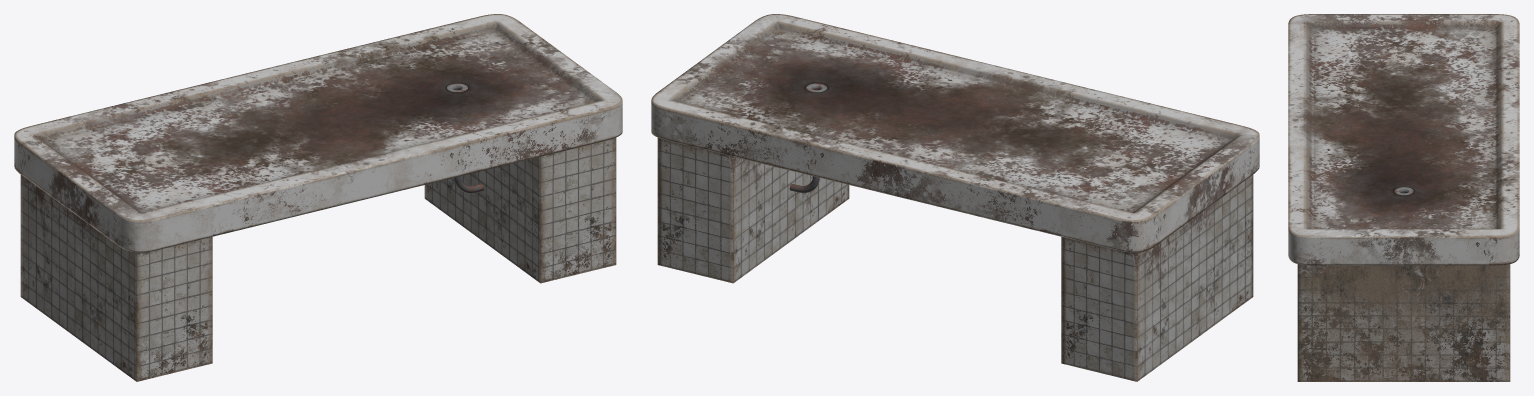
The model's file is SM_AutopsyTable01_LOD0.glb.
The picture shows the model from 3 angles, left to right: view 1: azimuth 30°, elevation 25°; view 2: azimuth 150°, elevation 25°; view 3: azimuth 270°, elevation 25°; orthographic projection. The views are drawn at different scales.
Parts seen in each view (by area): view 1: SM_AutopsyTable01_LOD0; view 2: SM_AutopsyTable01_LOD0; view 3: SM_AutopsyTable01_LOD0.
Boxes of the visible parts, x1=… form: SM_AutopsyTable01_LOD0: x1=14, y1=14, x2=622, y2=381; SM_AutopsyTable01_LOD0: x1=651, y1=14, x2=1259, y2=381; SM_AutopsyTable01_LOD0: x1=1288, y1=14, x2=1519, y2=381.
Bounding box in the file's own units: 2.75 × 0.8609 × 1.21.
1 material, 1 textured.
